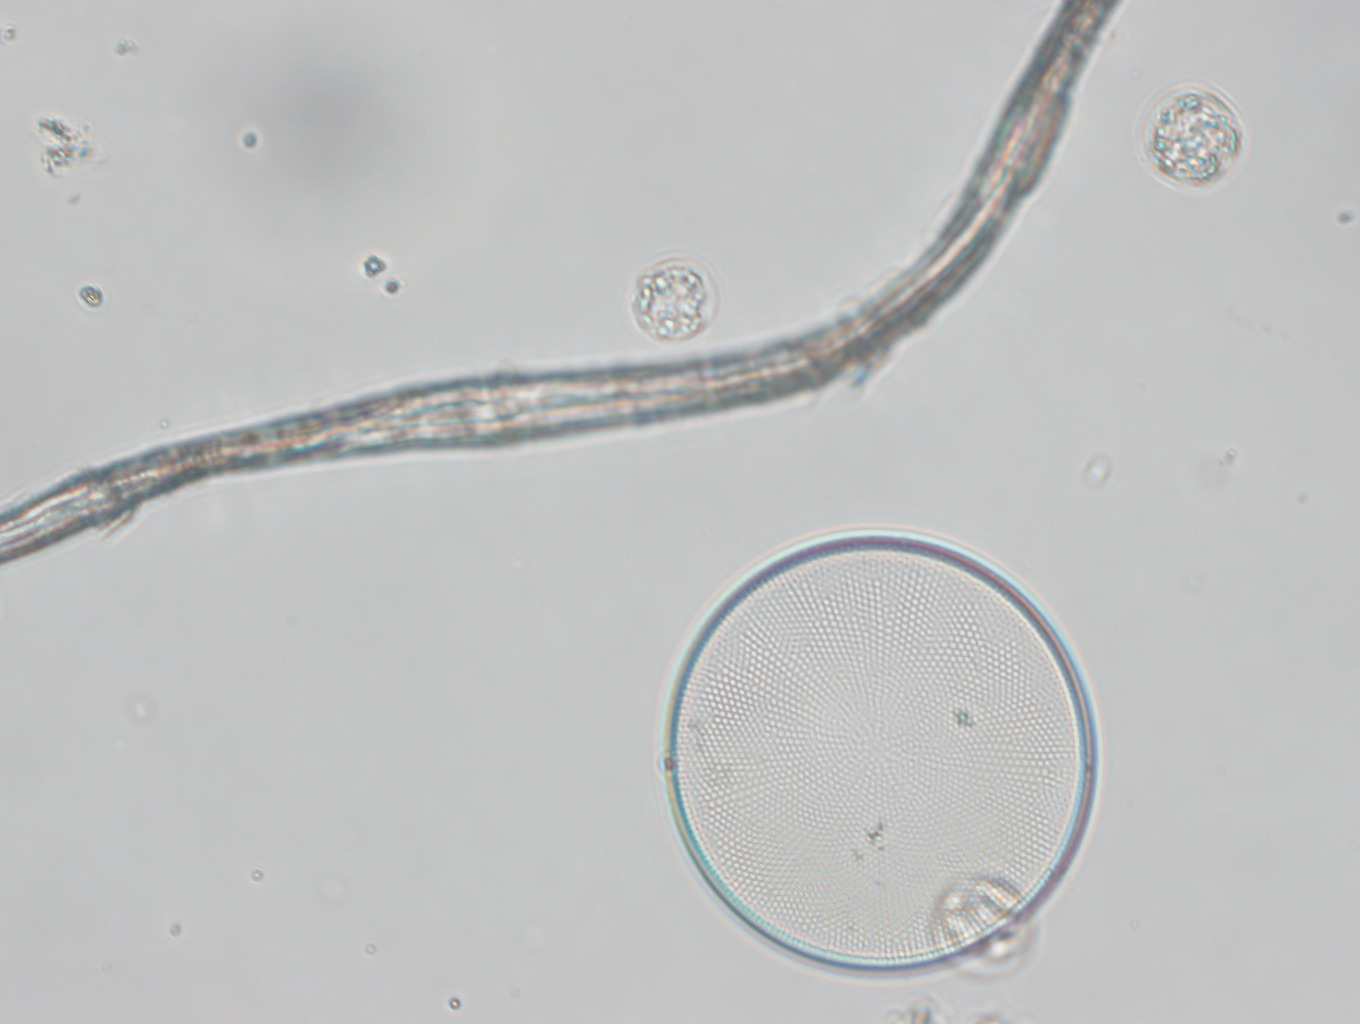coscinodiscus: (657, 525, 1103, 981)
